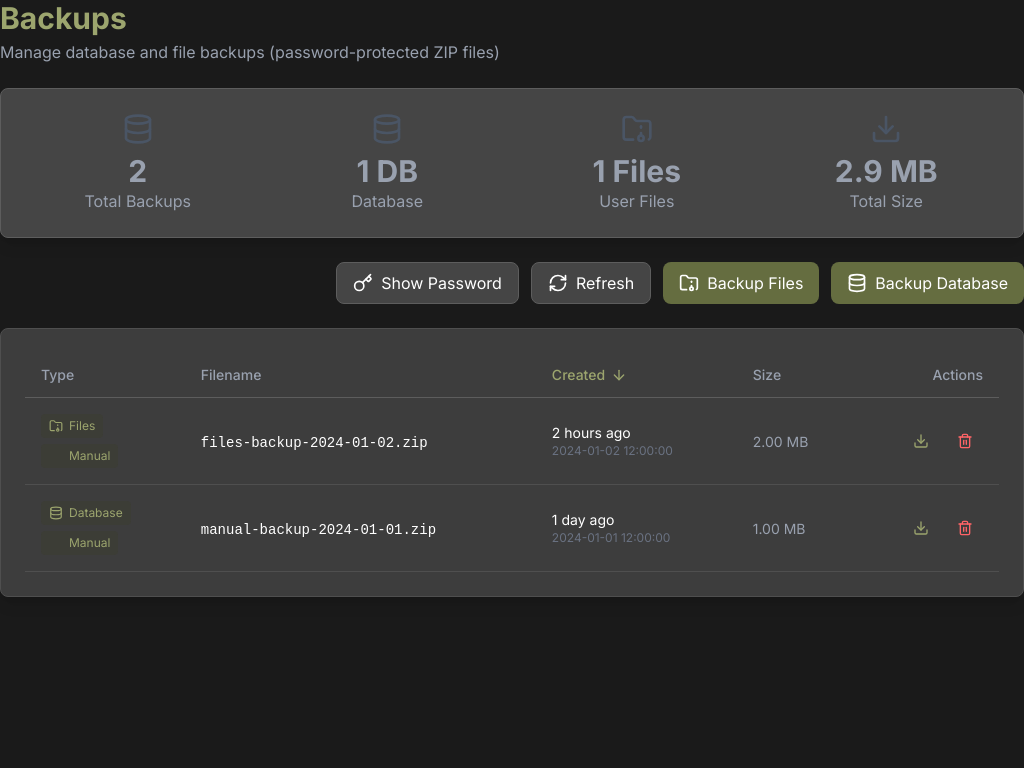
Test case: BackupsManagement › Deleting backups › should delete backup when confirmed
Expected: the text "manual-backup-2024-01-01.zip" is shown, [201,522,436,538]
Click the button titled "Delete backup" in the row of "files-backup-2024-01-02.zip" at (965, 441), box [947,423,983,459]
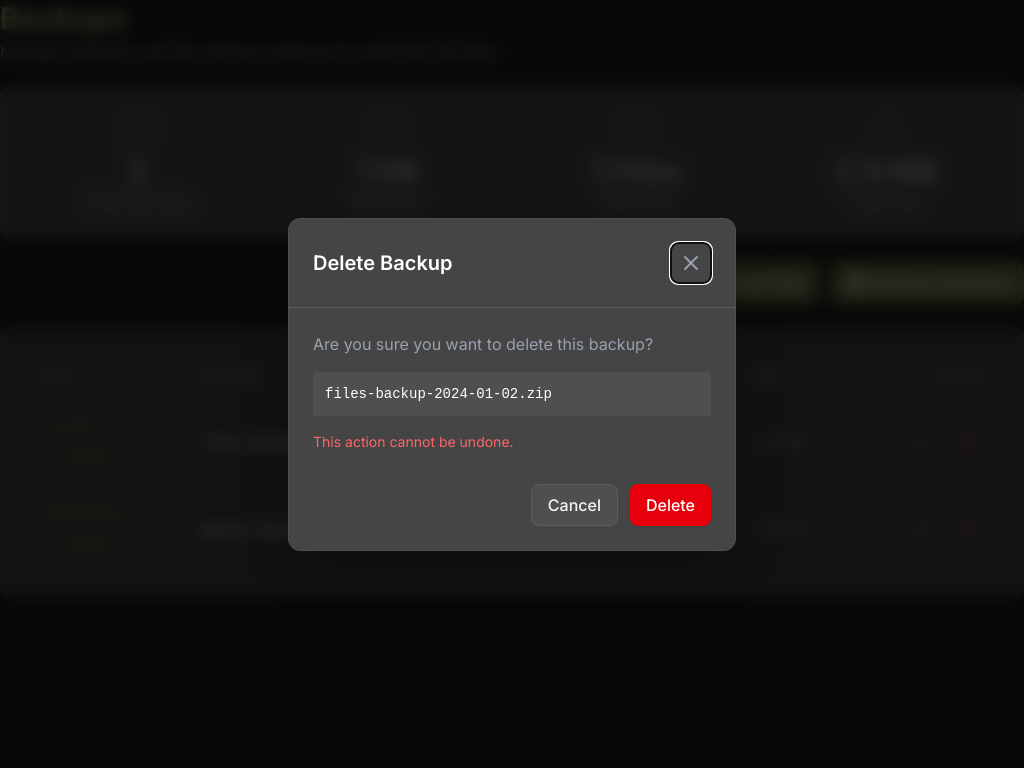
Now the heading "Delete Backup" is shown, box [313,248,452,276]
// Get the Delete button inside the modal (exact text match)
Click the button "Delete" at (670, 504), box [630,484,711,526]
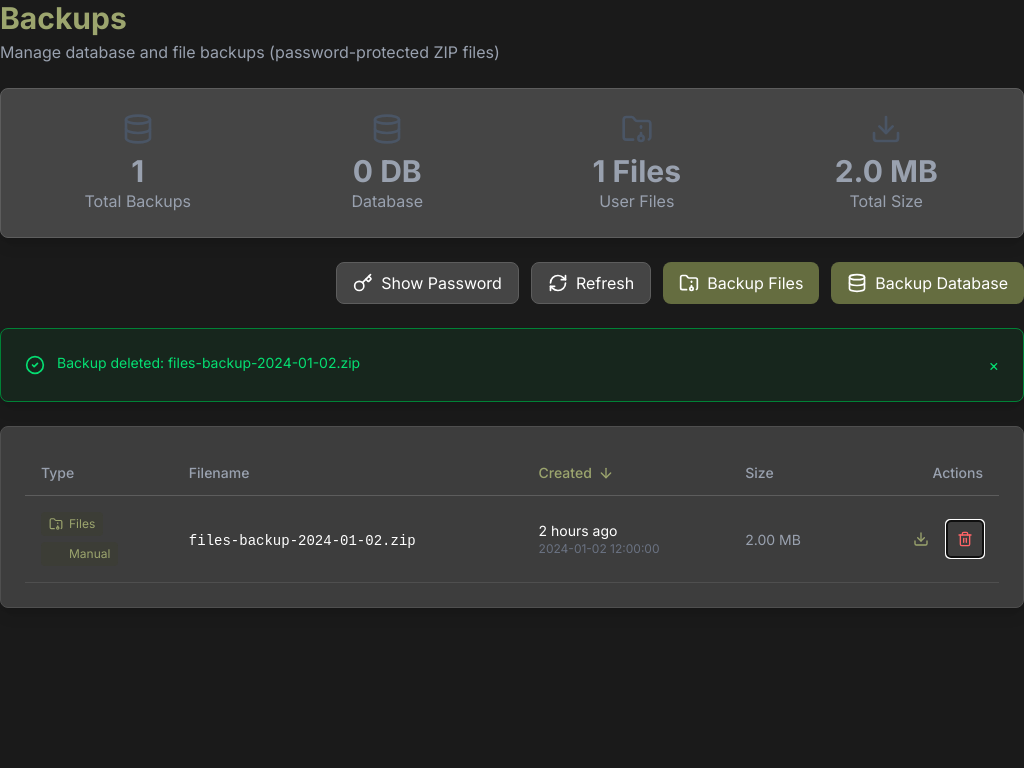
Now the text "Backup deleted: files-backup-2024-01-02.zip" is shown, box [57,354,360,371]
